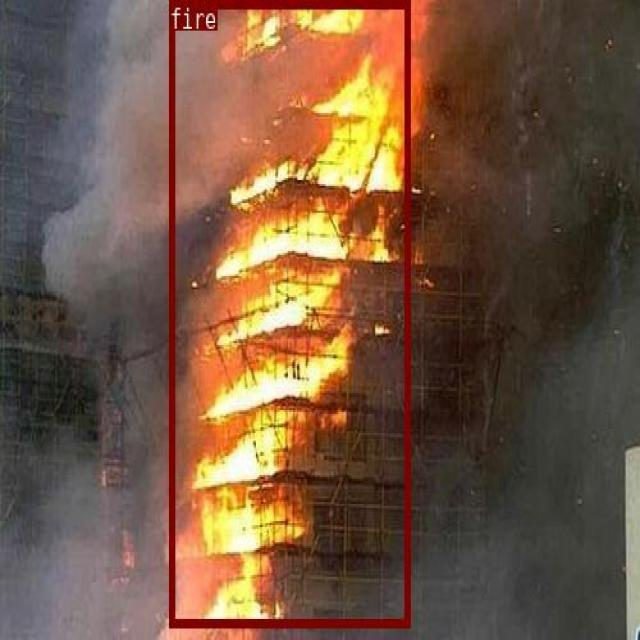fire: (168, 0, 409, 625)
